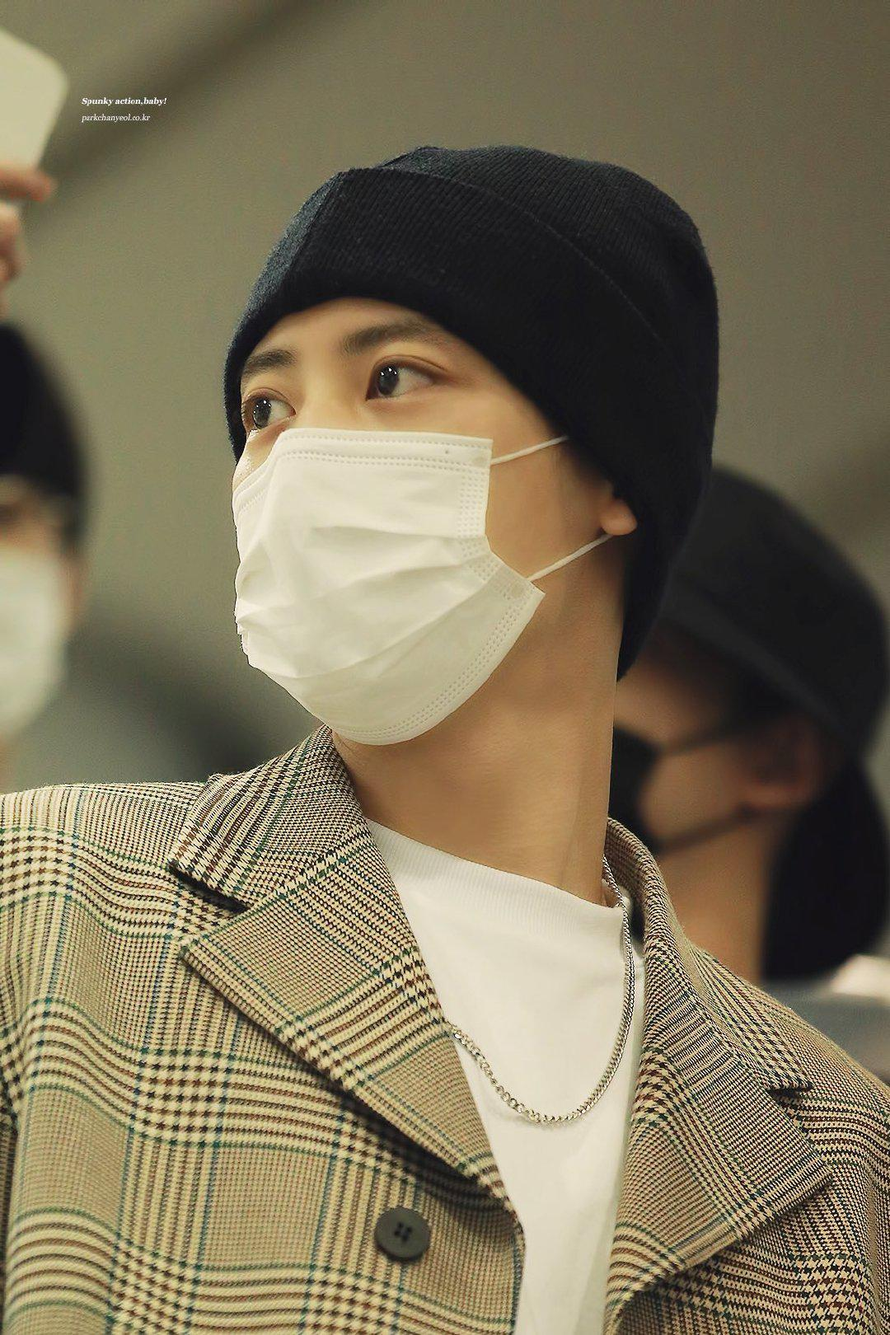OK: (228, 292, 541, 738)
